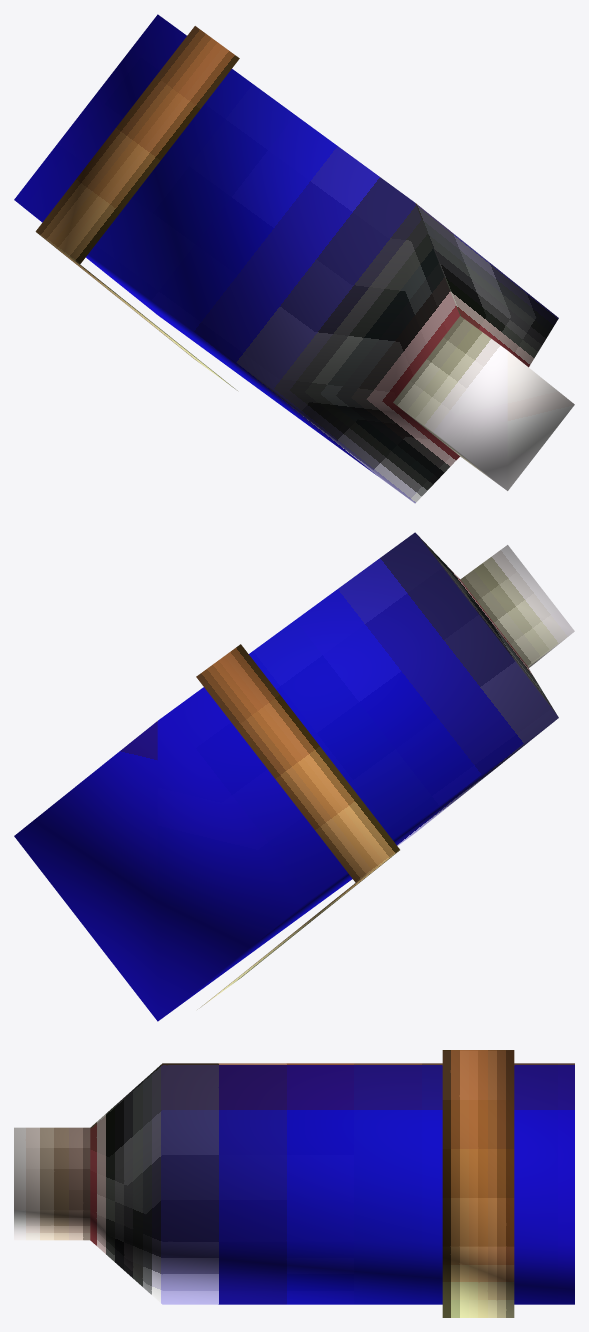
File: Potion06.glb
The picture shows the model from 3 angles, top to bottom: view 1: azimuth 30°, elevation 25°; view 2: azimuth 150°, elevation 25°; view 3: azimuth 270°, elevation 25°; orthographic projection. The views are drawn at different scales.
Visible parts, largest first — view 1: model_Potion06; view 2: model_Potion06; view 3: model_Potion06.
Boxes of the visible parts, x1=… form: model_Potion06: x1=14, y1=14, x2=574, y2=503; model_Potion06: x1=14, y1=532, x2=574, y2=1021; model_Potion06: x1=14, y1=1050, x2=574, y2=1317.
Bounding box in the file's own units: 0.1627 × 0.1627 × 0.309.
Materials: 2 (2 with a texture image).
